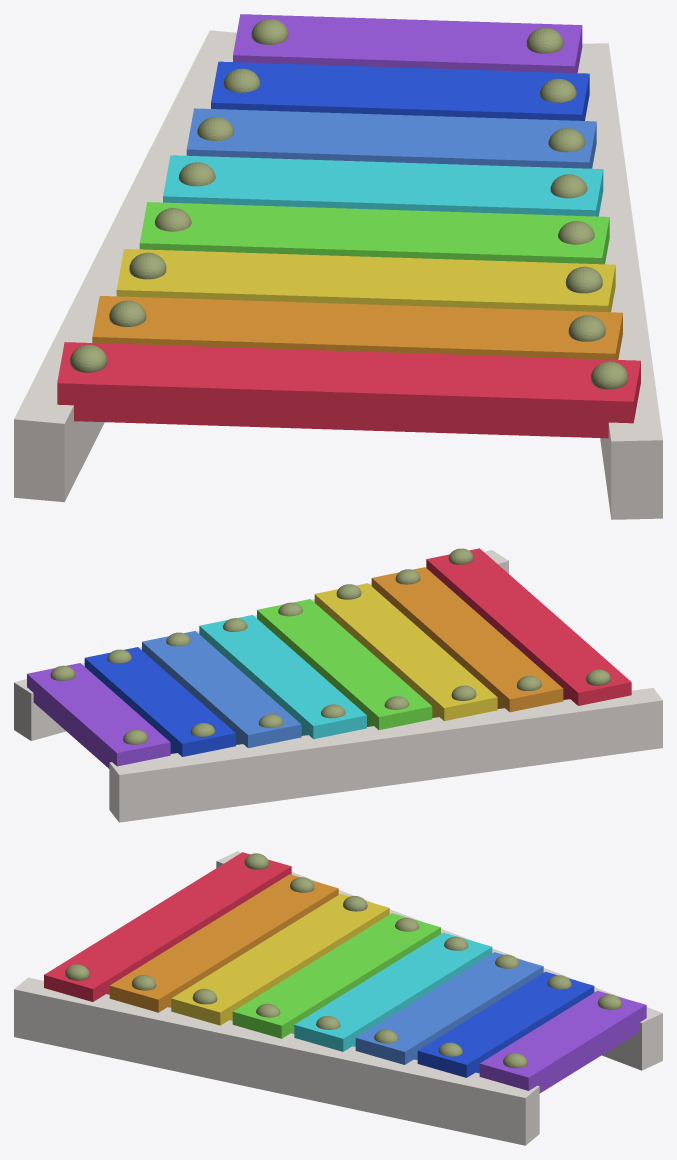
Rendered from xilofon.fbx.
3 renders of one model, top to bottom at view 1: azimuth 30°, elevation 25°; view 2: azimuth 150°, elevation 25°; view 3: azimuth 270°, elevation 25°, orthographic. The views are drawn at different scales.
Parts seen in each view (by area): view 1: Object_4; view 2: Object_4; view 3: Object_4.
Boxes of the visible parts, x1,y1,x2,y2 form: Object_4: (14,14,662,519); Object_4: (14,548,662,822); Object_4: (14,851,662,1145).
Bounding box in the file's own units: 318 × 42.74 × 354.
